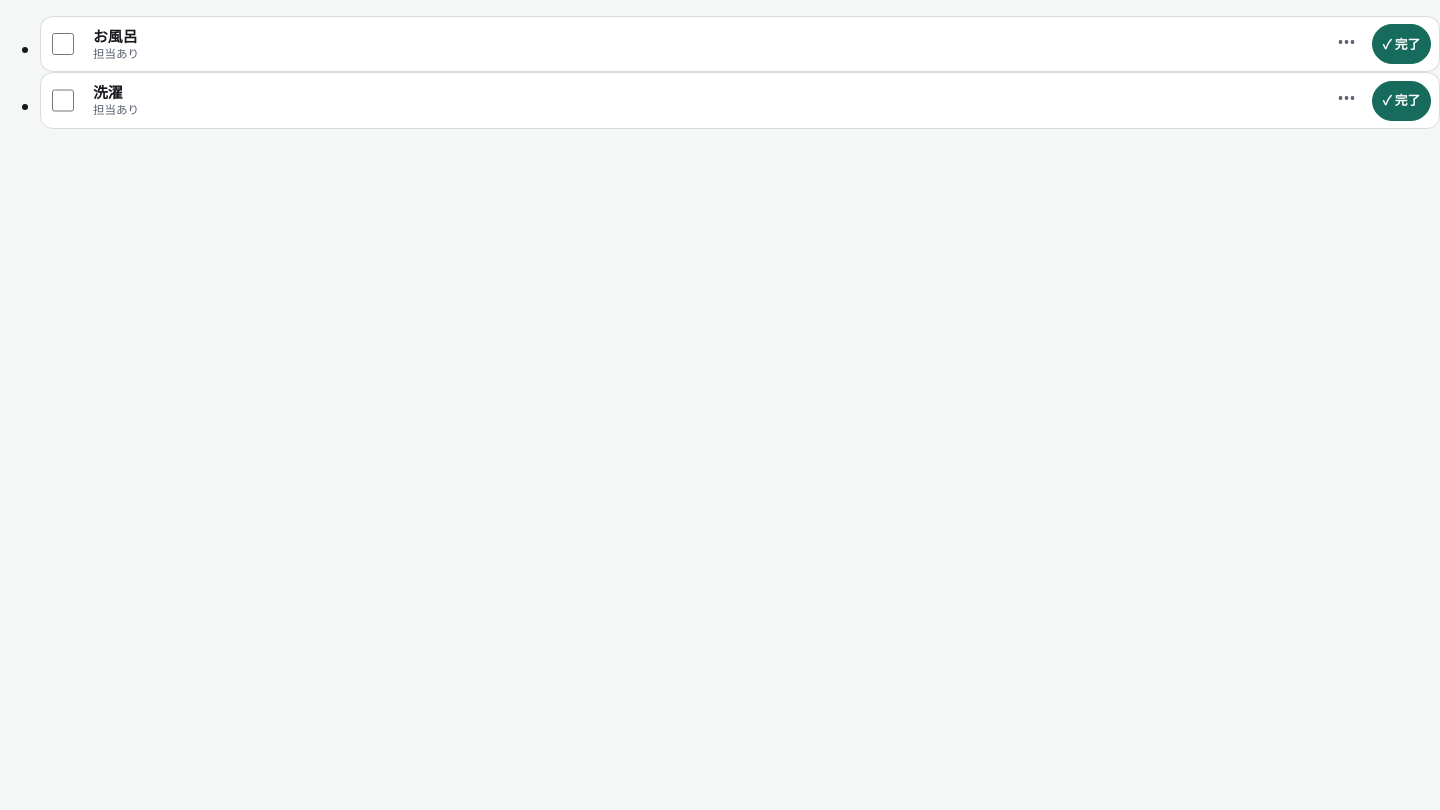
Scenario: ticking several tasks and recording them together › records ticked tasks as できなかった with the row revision
Click the checkbox named "洗濯を選ぶ".
click(63, 101)  # box [52,89,74,112]
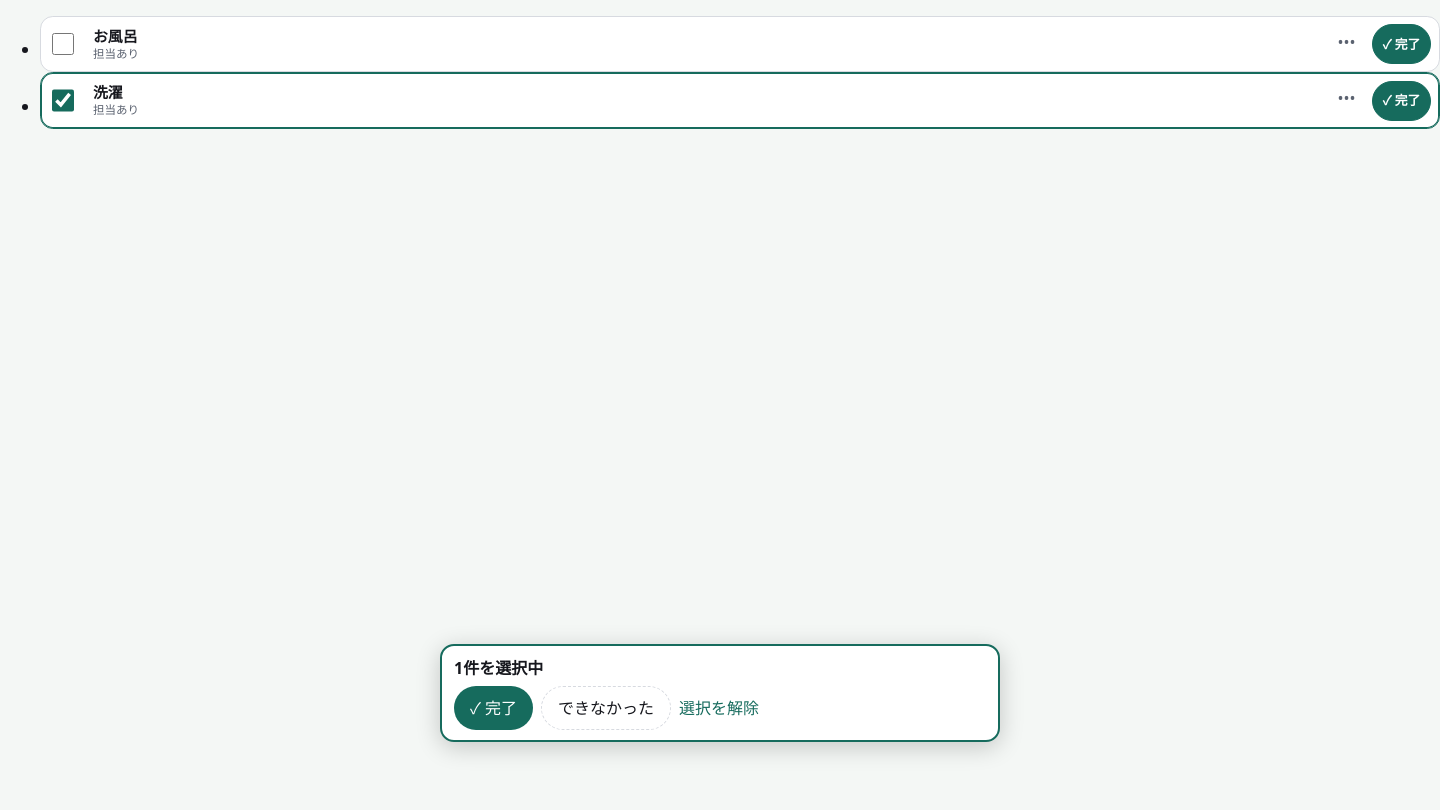
Click the button "できなかった".
click(606, 708)  # box [541,686,671,730]
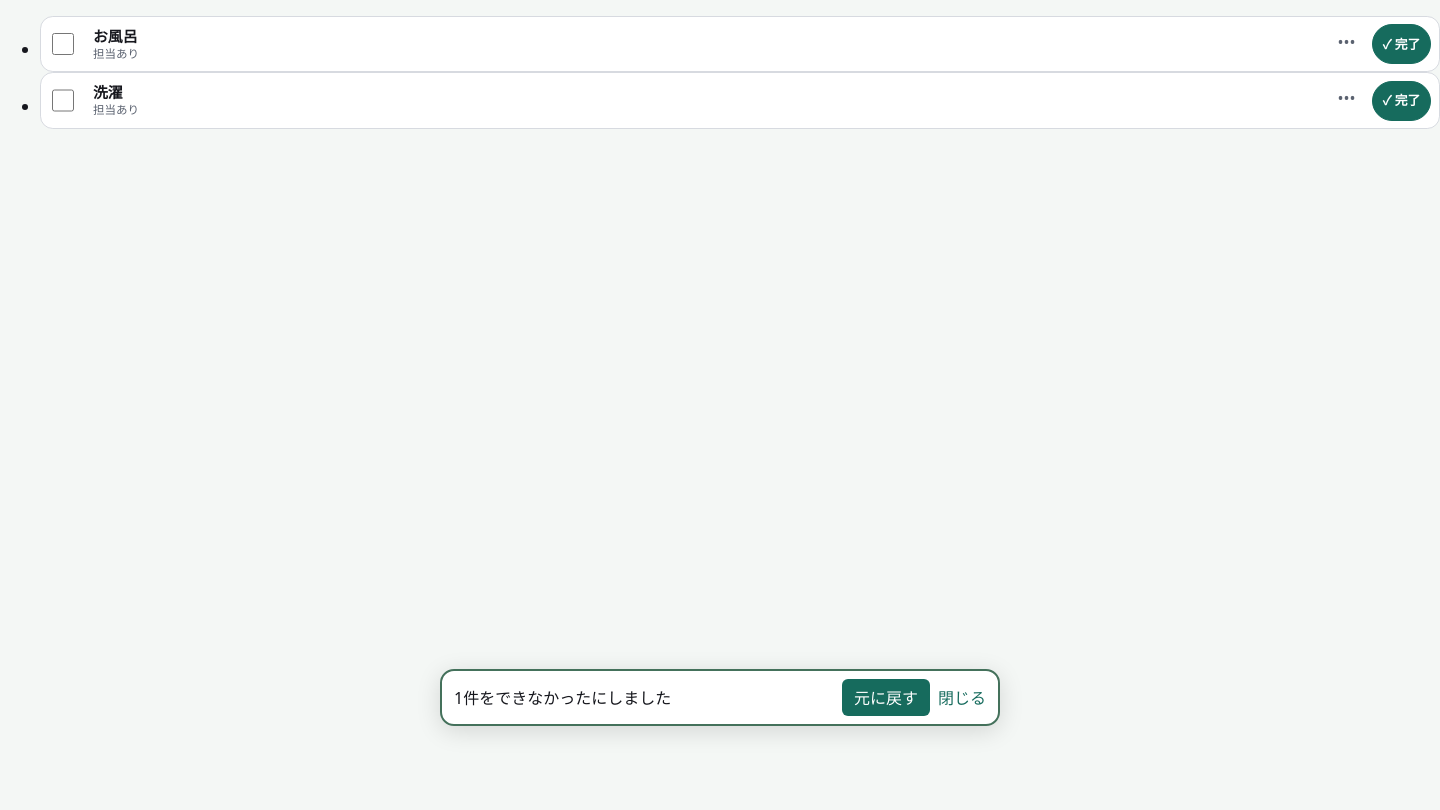
Expected: the text "1件をできなかったにしました" is shown, [454,687,671,709]
